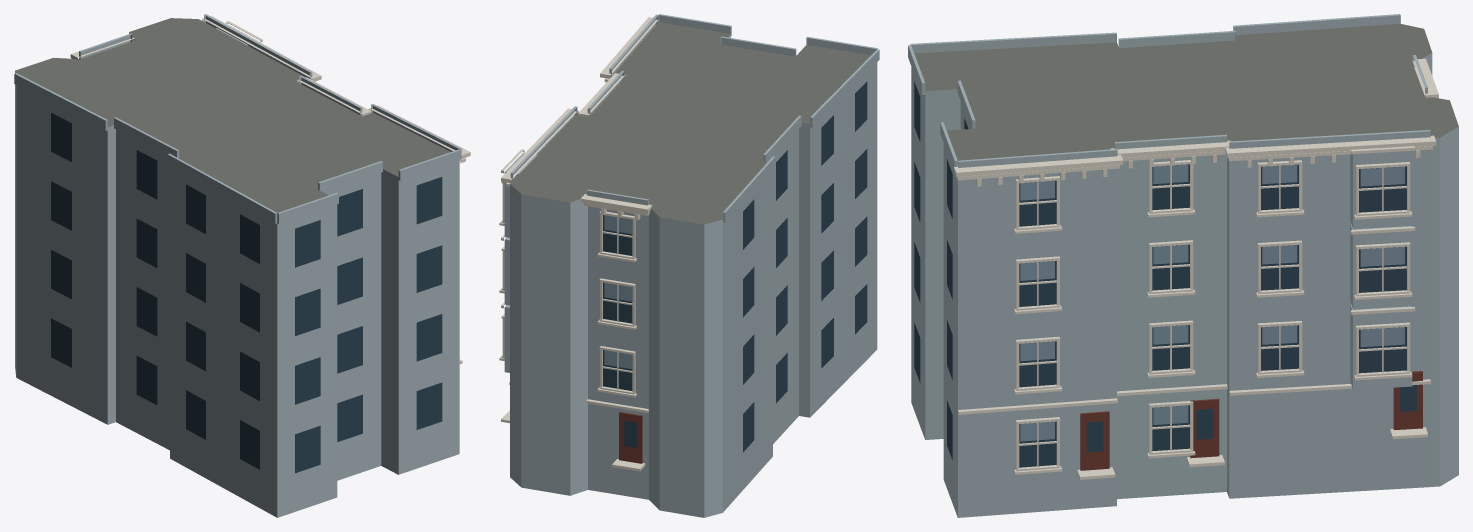
3 views of the same model, side by side, from view 1: azimuth 30°, elevation 25°; view 2: azimuth 150°, elevation 25°; view 3: azimuth 270°, elevation 25° (orthographic). The views are drawn at different scales.
Parts seen in each view (by area): view 1: Footprint 0 / surface 2, Footprint 0 / surface 1, Inset glazing, Facade bay volumes, Cornices and window frames; view 2: Footprint 0 / surface 2, Footprint 0 / surface 1, Inset glazing, Facade bay volumes, Cornices and window frames, Sky reflection panels, Storefronts and doors; view 3: Footprint 0 / surface 2, Footprint 0 / surface 1, Cornices and window frames, Inset glazing, Facade bay volumes, Sky reflection panels, Storefronts and doors.
Part boxes in pixels (<box>): Footprint 0 / surface 2: <box>15,32,459,517</box>; Footprint 0 / surface 1: <box>15,18,450,212</box>; Inset glazing: <box>51,112,442,473</box>; Facade bay volumes: <box>14,14,461,223</box>; Cornices and window frames: <box>70,15,470,364</box>; Footprint 0 / surface 2: <box>510,34,877,517</box>; Footprint 0 / surface 1: <box>510,22,870,224</box>; Inset glazing: <box>603,81,867,452</box>; Facade bay volumes: <box>504,14,879,372</box>; Cornices and window frames: <box>499,17,657,471</box>; Sky reflection panels: <box>604,215,631,369</box>; Storefronts and doors: <box>619,412,642,463</box>; Footprint 0 / surface 2: <box>911,53,1458,517</box>; Footprint 0 / surface 1: <box>914,23,1458,160</box>; Cornices and window frames: <box>954,58,1438,479</box>; Inset glazing: <box>914,81,1416,467</box>; Facade bay volumes: <box>908,14,1430,389</box>; Sky reflection panels: <box>1020,164,1404,441</box>; Storefronts and doors: <box>1080,371,1422,470</box>.
Size of the model in its own units: 13.59 by 14.82 by 20.71.
